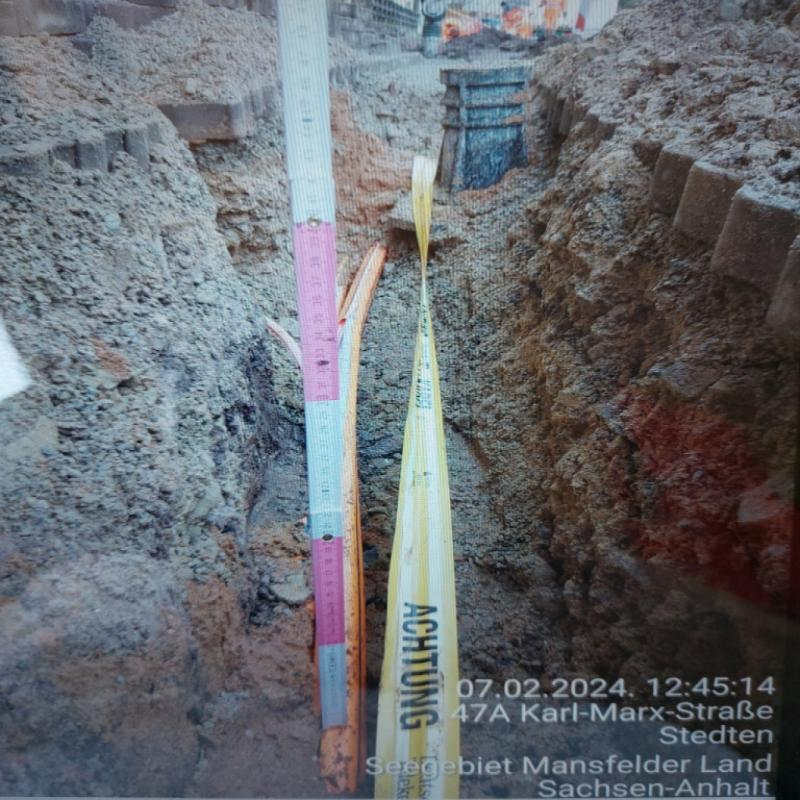Orang-Speednetrohrchen: (321, 240, 385, 793)
